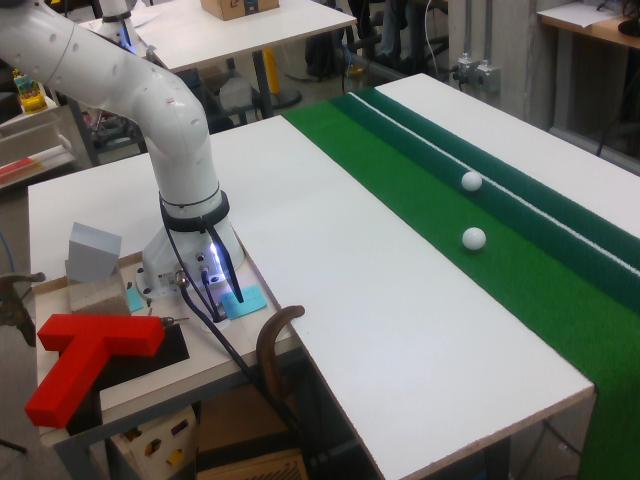golf_balls: (462, 227, 486, 250), (462, 172, 482, 192)
